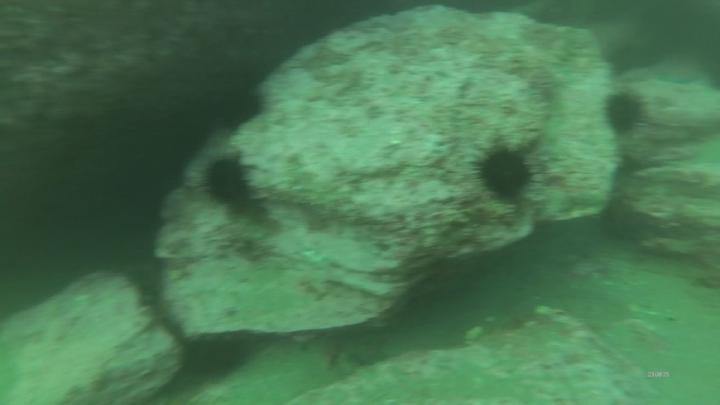echinus: (474, 147, 536, 204), (201, 153, 258, 213), (600, 90, 652, 136)
